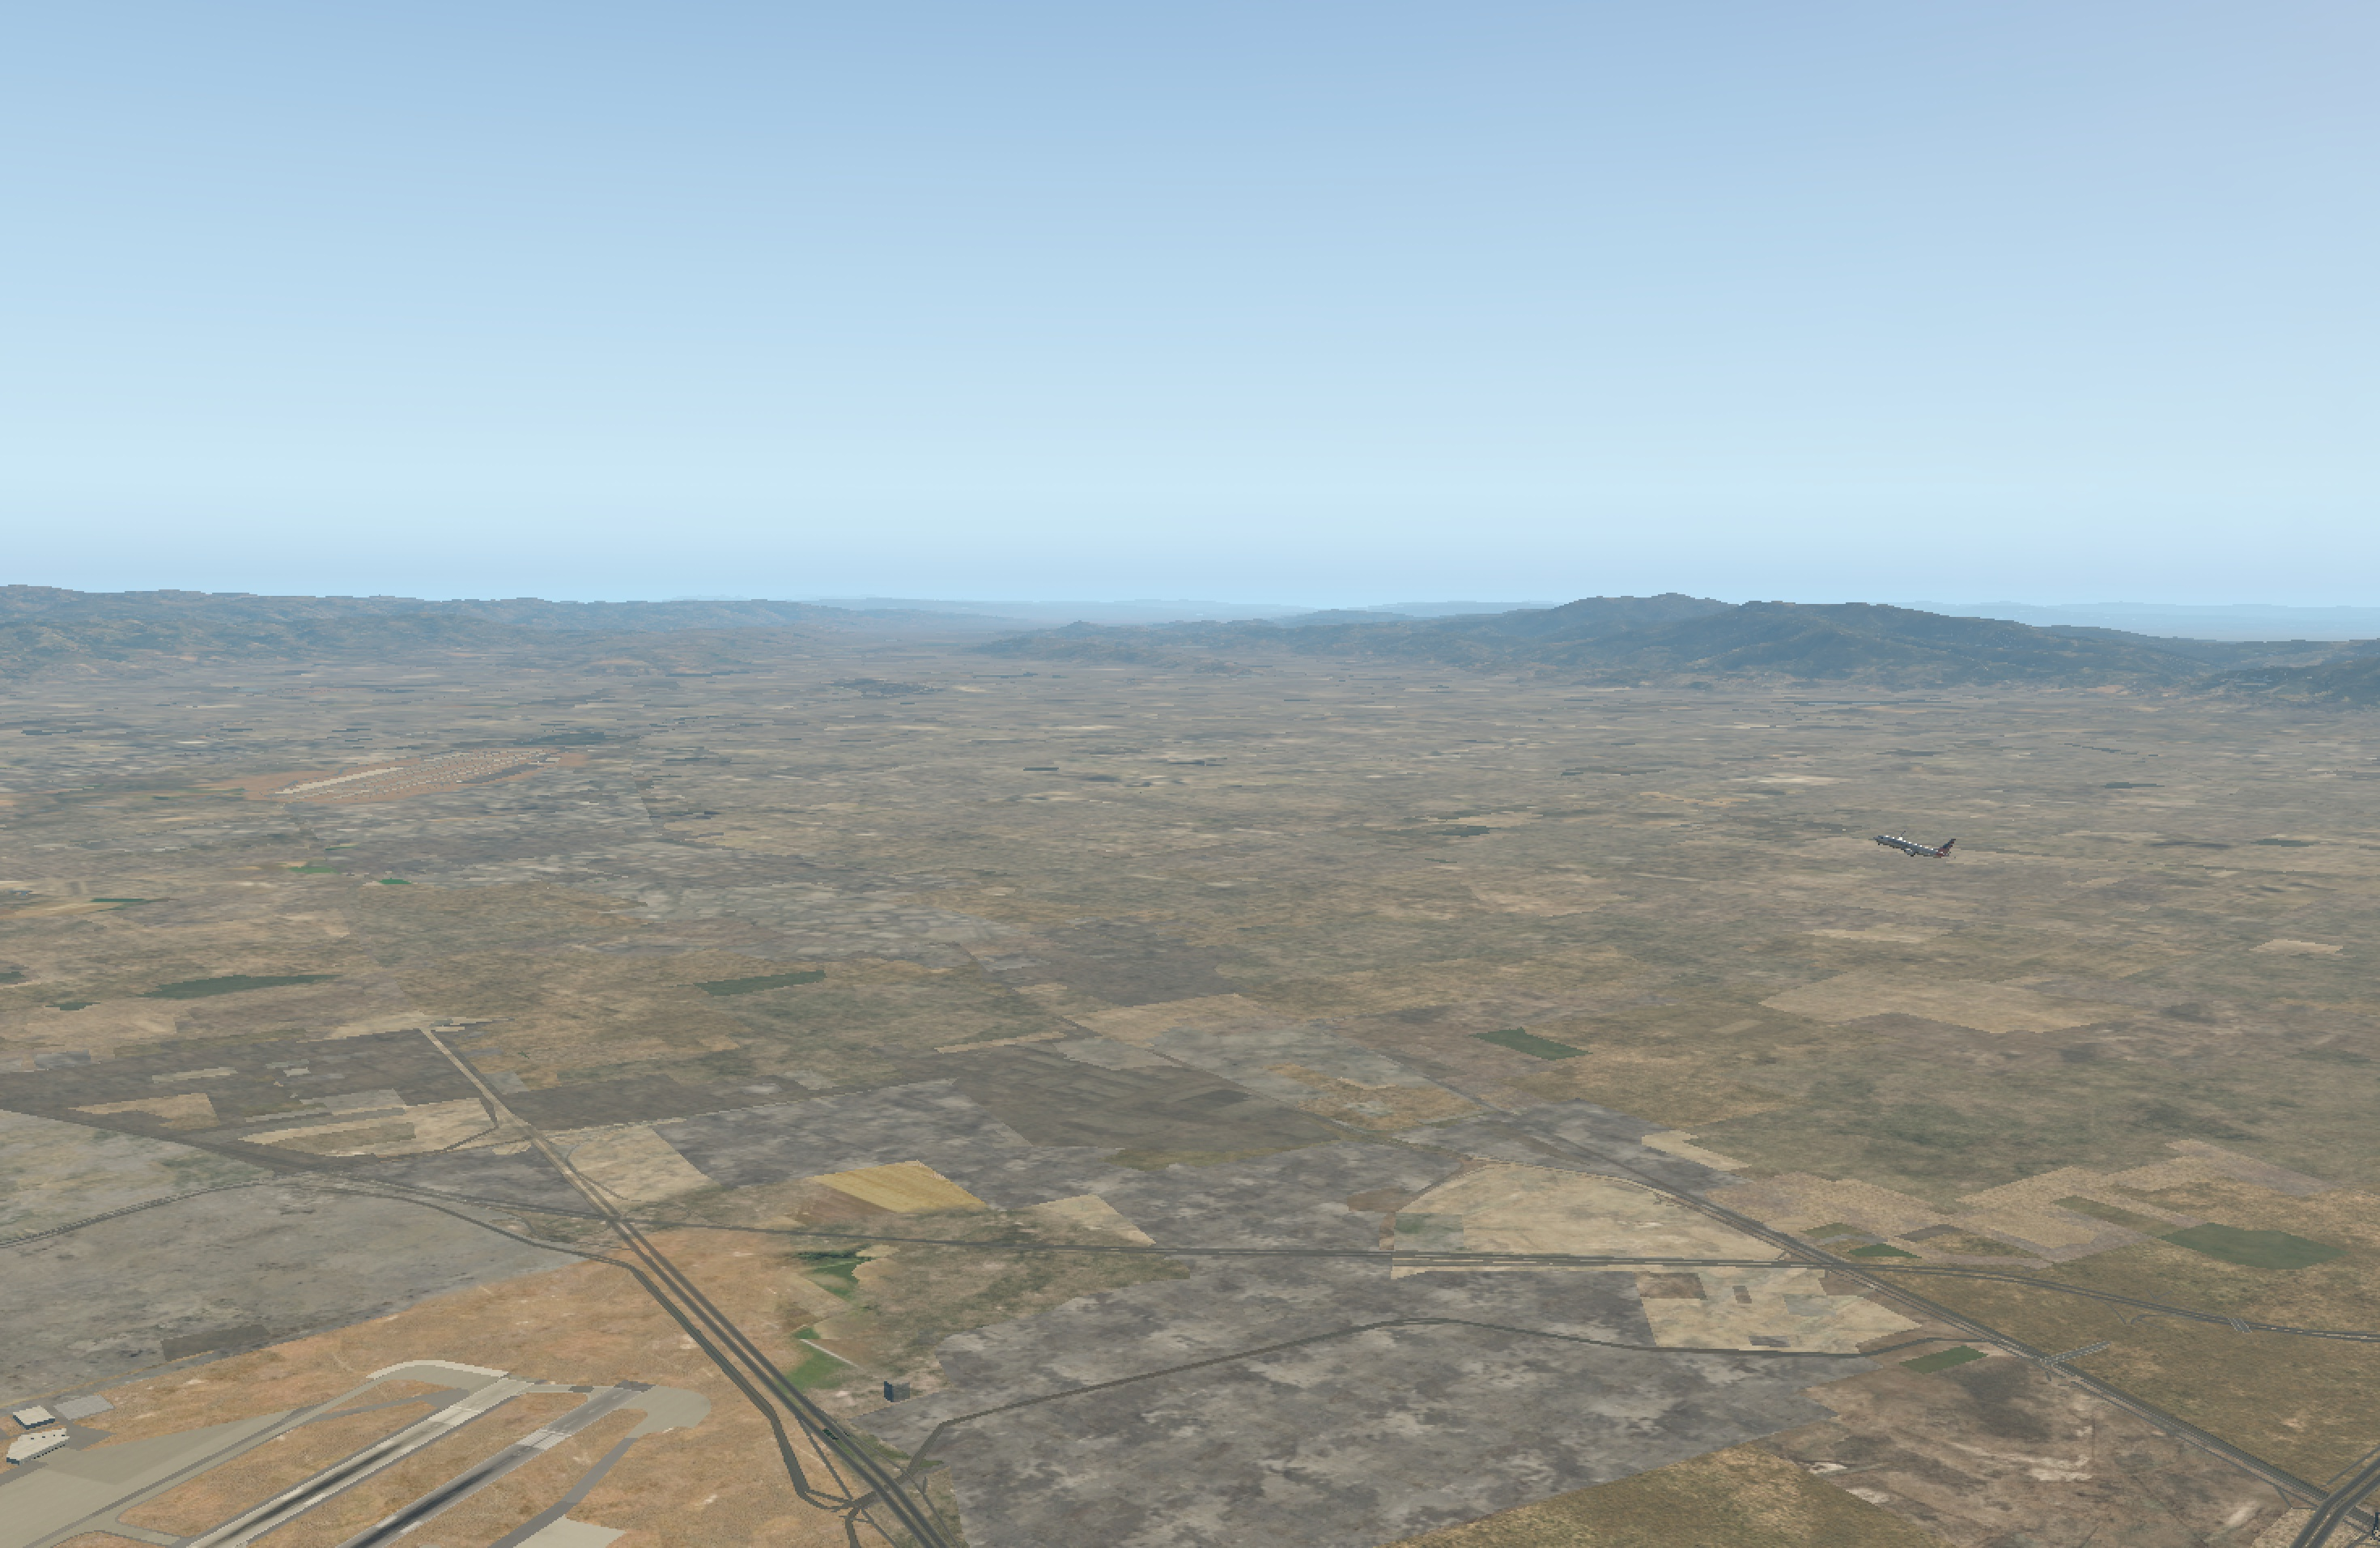aircraft: (1867, 833, 1952, 864)
